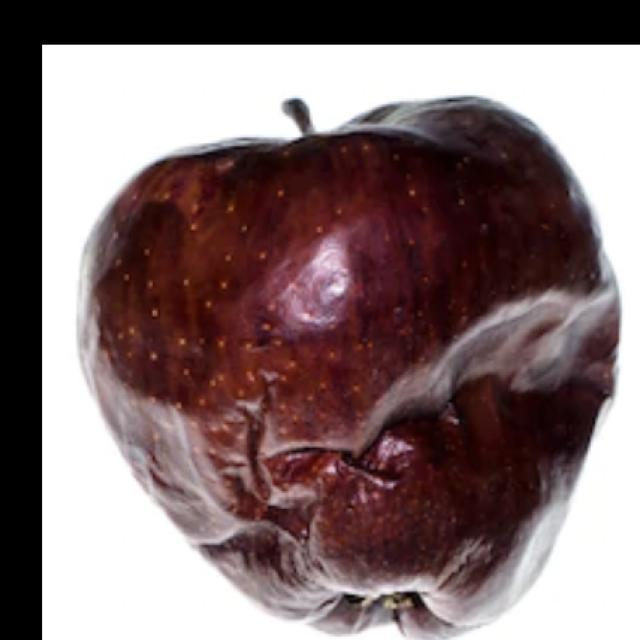Rotten: (93, 106, 613, 640)
